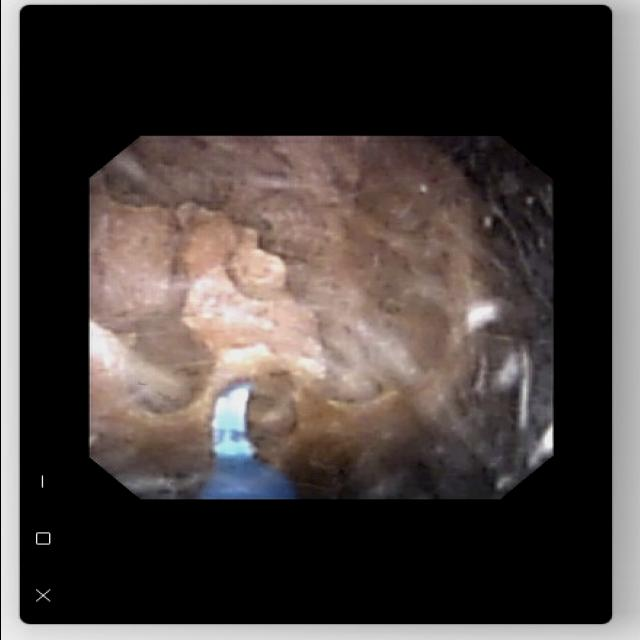fiber: (204, 387, 292, 493)
stone: (95, 142, 484, 490)
